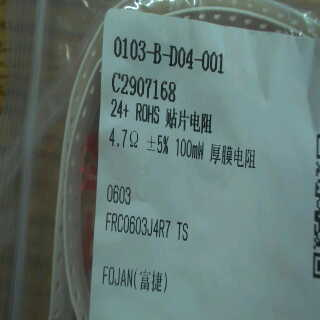4.7R: (106, 124, 141, 150)
